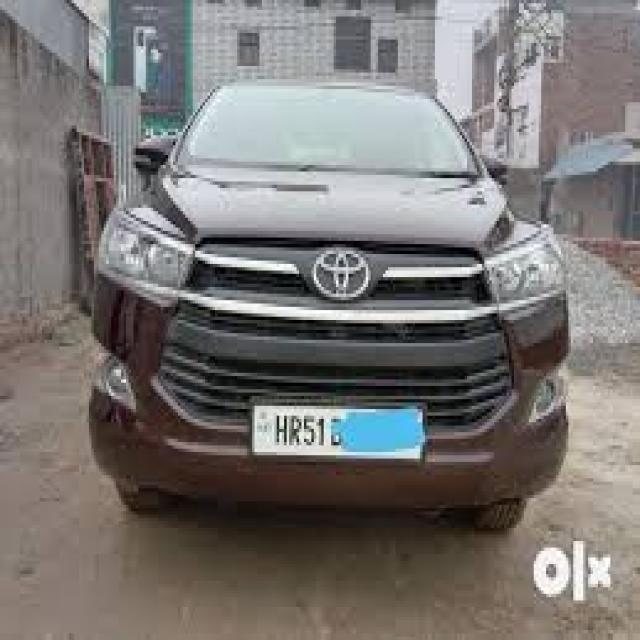light_vehicle: (89, 78, 572, 537)
